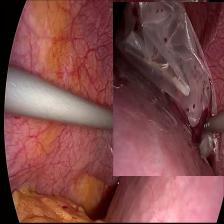Irrigator: (116, 112, 138, 136)
Specimen Bag: (113, 2, 224, 176)
